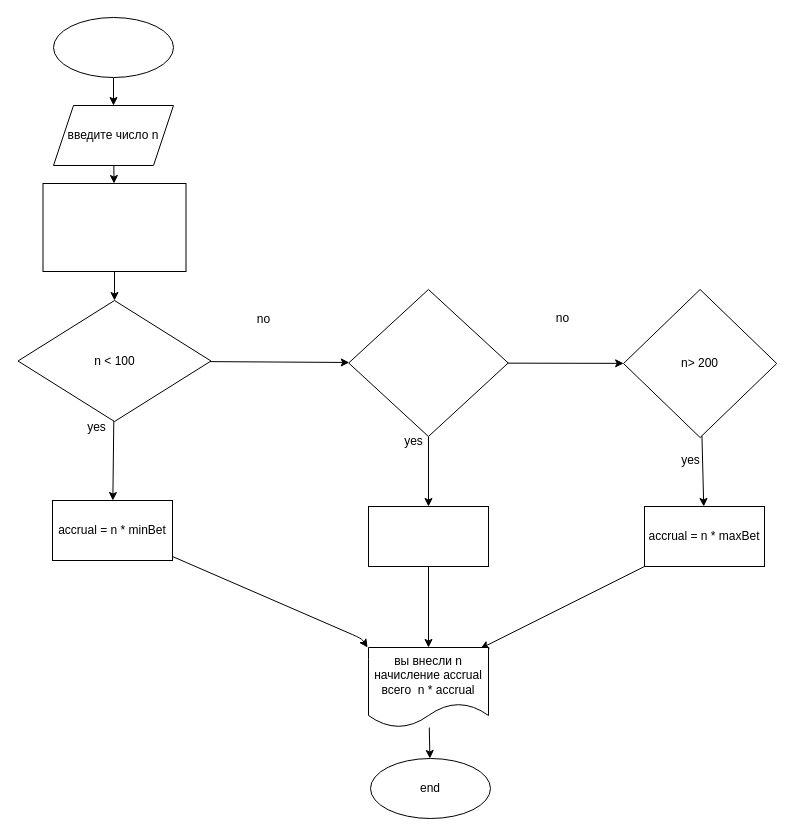
This 794x836 diagram has some shape labels left out. The centre of each missing label's shape, as x and y in pixels:
accrual = n * mediumBet: (428,536)
minBet = 0,05 mediumBet = 0,07 maxBet = 0,1 accrual = 0: (114,227)
n == 100 && n <= 200: (428,362)
start: (113,47)
